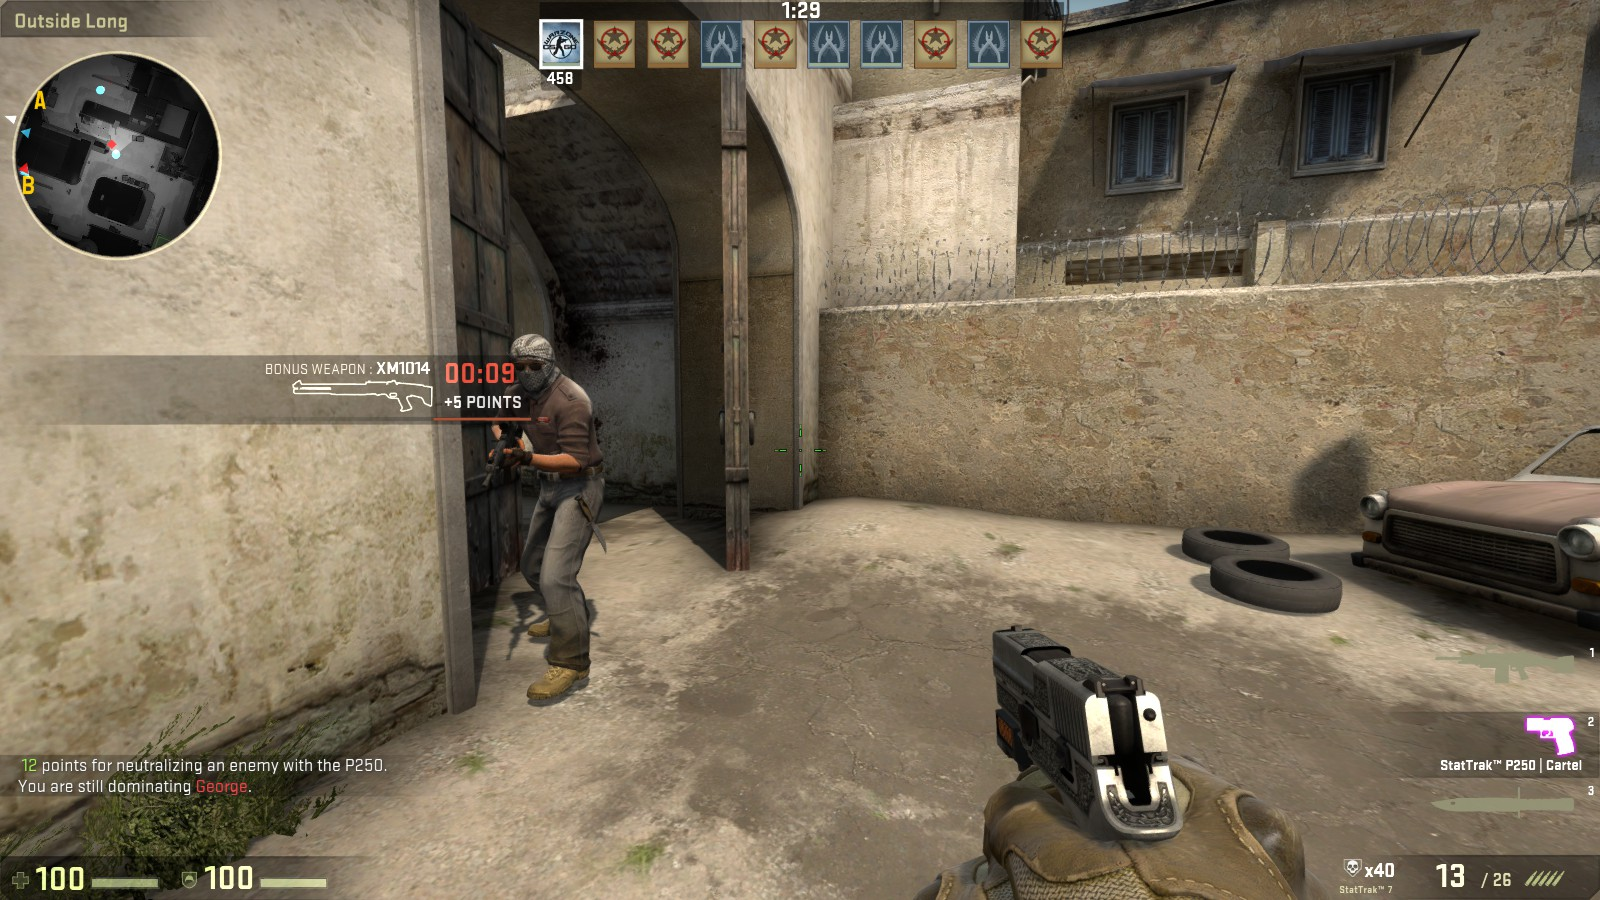t: (490, 331, 596, 699)
th: (511, 327, 559, 400)
